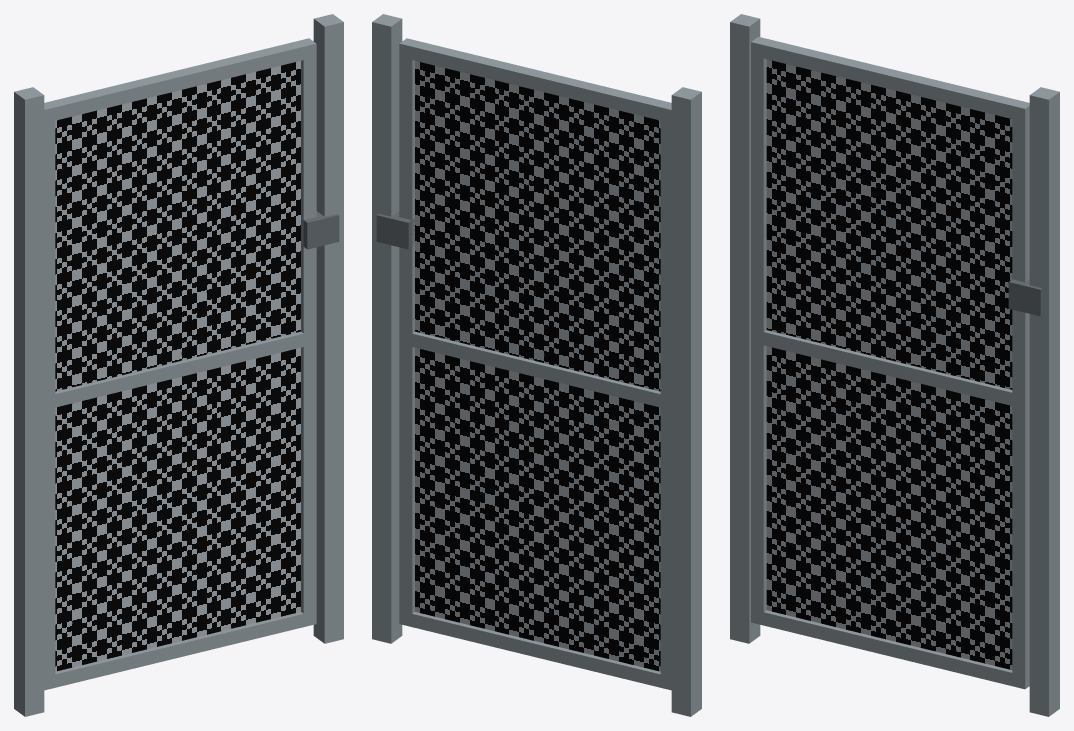
File: t_chaingate_c.glb
3 views of the same model, side by side, from view 1: azimuth 30°, elevation 25°; view 2: azimuth 150°, elevation 25°; view 3: azimuth 330°, elevation 25° (orthographic).
Parts seen in each view (by area): view 1: block_mesh, block_post-0.5, block_post0.44, block_r, block_l, block_top, block_bottom, block_brace, block_latch; view 2: block_mesh, block_post-0.5, block_post0.44, block_r, block_l, block_top, block_bottom, block_brace, block_latch; view 3: block_mesh, block_post0.44, block_post-0.5, block_r, block_l, block_top, block_bottom, block_brace, block_latch.
Part boxes in pixels (box(x1,y1,x2,y2)): block_mesh: box(55, 61, 300, 671); block_post-0.5: box(14, 87, 44, 716); block_post0.44: box(313, 14, 343, 643); block_r: box(299, 38, 316, 626); block_l: box(44, 104, 55, 676); block_top: box(44, 38, 316, 123); block_bottom: box(44, 611, 316, 690); block_brace: box(54, 330, 316, 407); block_latch: box(301, 211, 339, 249); block_mesh: box(415, 61, 660, 671); block_post-0.5: box(671, 87, 701, 716); block_post0.44: box(372, 14, 402, 643); block_r: box(399, 39, 418, 626); block_l: box(660, 102, 671, 685); block_top: box(399, 38, 671, 122); block_bottom: box(399, 611, 671, 690); block_brace: box(399, 331, 660, 407); block_latch: box(376, 211, 414, 249); block_mesh: box(766, 59, 1012, 669); block_post0.44: box(1029, 87, 1059, 716); block_post-0.5: box(730, 14, 760, 643); block_r: box(1012, 102, 1029, 688); block_l: box(751, 37, 769, 625); block_top: box(751, 36, 1029, 121); block_bottom: box(751, 609, 1029, 689); block_brace: box(751, 329, 1022, 406); block_latch: box(1008, 279, 1042, 316).
Bounding box in the file's own units: 1 × 1.85 × 0.08.
Materials: 2 (2 with a texture image).
